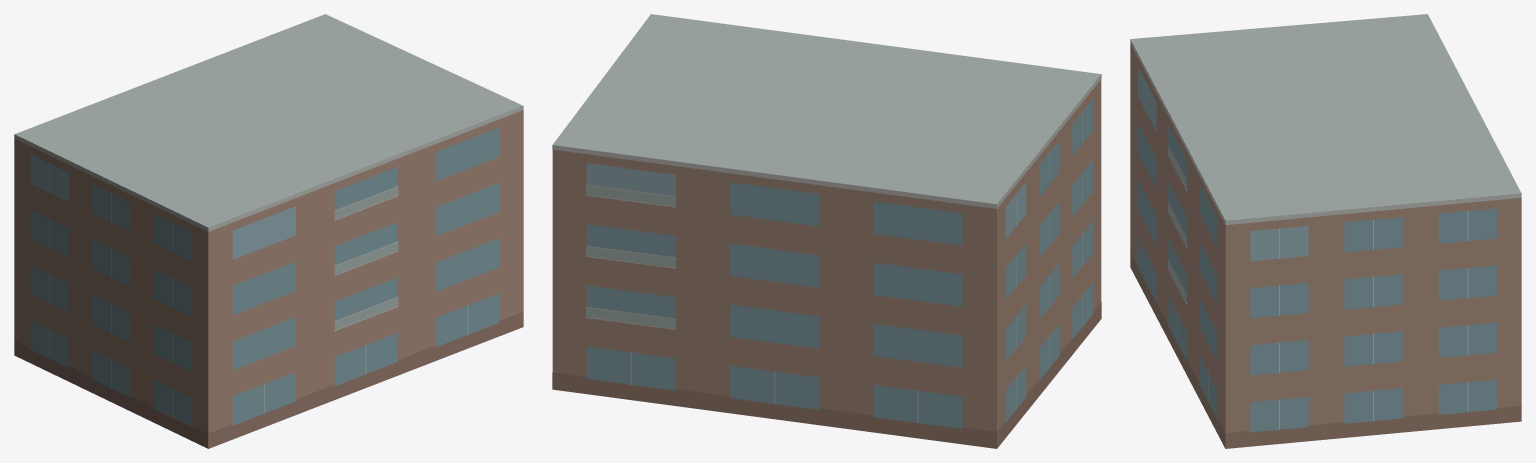
The model's file is survey-upis-32696832.glb.
3 views of the same model, side by side, from view 1: azimuth 30°, elevation 25°; view 2: azimuth 150°, elevation 25°; view 3: azimuth 270°, elevation 25° (orthographic). The views are drawn at different scales.
Parts seen in each view (by area): view 1: survey-upis-32696832.tmp; view 2: survey-upis-32696832.tmp; view 3: survey-upis-32696832.tmp.
Part boxes in pixels (x1=…): survey-upis-32696832.tmp: x1=14, y1=14, x2=523, y2=448; survey-upis-32696832.tmp: x1=552, y1=14, x2=1101, y2=448; survey-upis-32696832.tmp: x1=1130, y1=14, x2=1521, y2=448.
Size of the model in its own units: 24.9 by 12.8 by 19.91.
